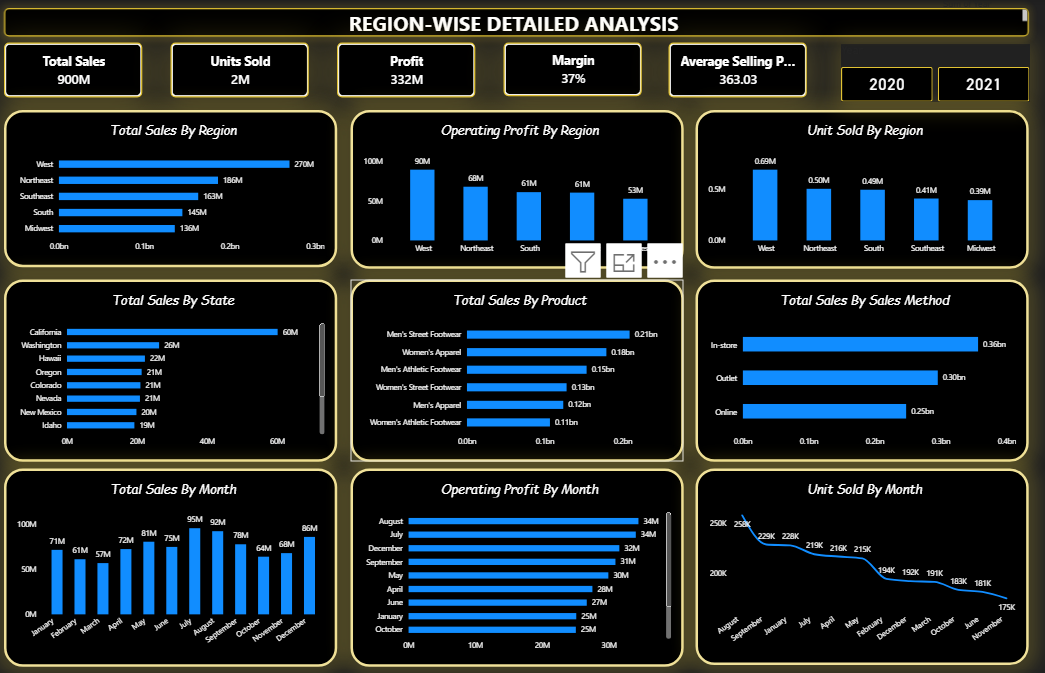

Layout of this report page (visuals, bound fields, positions):
{"tool":"powerbi","page":{"name":"region_wise_detail_analysis","canvas":[1920,1080],"ordinal":3},"visuals":[{"type":"textbox","box":[10,15,1630,45],"z":0},{"type":"cardVisual","fields":{"Data":["Sum(Adidas Sales.Total Sales)"]},"box":[10,70,220,87.5],"z":1000},{"type":"cardVisual","fields":{"Data":["Sum(Adidas Sales.Units Sold)"]},"box":[274.4,70,220,87.5],"z":2000},{"type":"cardVisual","fields":{"Data":["Sum(Adidas Sales.Operating Profit)"]},"box":[538.8,70,220,87.5],"z":3000},{"type":"cardVisual","fields":{"Data":["Adidas Sales.Margin"]},"box":[803.1,70,220,85],"z":4000},{"type":"cardVisual","fields":{"Data":["Adidas Sales.Average Selling Price"]},"box":[1067.5,70,220,87.5],"z":5000},{"type":"clusteredBarChart","title":"Total Sales By Region","fields":{"Category":["Adidas Sales.Region"],"Y":["Sum(Adidas Sales.Total Sales)"]},"box":[10,177.5,530,250],"z":6000},{"type":"clusteredColumnChart","title":"Operating Profit By Region","fields":{"Y":["Sum(Adidas Sales.Operating Profit)"],"Category":["Adidas Sales.Region"]},"box":[560,177.5,530,252.5],"z":7000},{"type":"clusteredColumnChart","title":"Unit Sold By Region","fields":{"Category":["Adidas Sales.Region"],"Y":["Sum(Adidas Sales.Units Sold)"]},"box":[1110,177.5,530,252.5],"z":8000},{"type":"clusteredBarChart","title":"Total Sales By State","fields":{"Category":["Adidas Sales.State"],"Y":["Sum(Adidas Sales.Total Sales)"]},"box":[10,445,530,290],"z":9000},{"type":"clusteredBarChart","title":"Total Sales By Product","fields":{"Category":["Adidas Sales.Product"],"Y":["Sum(Adidas Sales.Total Sales)"]},"box":[560,445,530,290],"z":10000},{"type":"clusteredBarChart","title":"Total Sales By Sales Method","fields":{"Category":["Adidas Sales.Sales Method"],"Y":["Sum(Adidas Sales.Total Sales)"]},"box":[1110,445,530,290],"z":11000},{"type":"clusteredColumnChart","title":"Total Sales By Month","fields":{"Category":["Date_matster_table.month_name"],"Y":["Sum(Adidas Sales.Total Sales)"]},"box":[10,747.5,530,315],"z":12000},{"type":"clusteredBarChart","title":"Operating Profit By Month ","fields":{"Category":["Date_matster_table.month_name"],"Y":["Sum(Adidas Sales.Operating Profit)"]},"box":[560,747.5,530,315],"z":13000},{"type":"lineChart","title":"Unit Sold By Month","fields":{"Category":["Date_matster_table.month_name"],"Y":["Sum(Adidas Sales.Units Sold)"]},"box":[1110,747.5,530,312.5],"z":14000},{"type":"advancedSlicerVisual","fields":{"Label":["Sum(Date_matster_table.Year)"]},"box":[1502.5,0,377,357.9],"z":16000},{"type":"advancedSlicerVisual","fields":{"Values":["Date_matster_table.Year"]},"box":[1340,72.5,300,92.5],"z":17000}]}

Visuals, with their boxes on the page's 1920x1080 design canvas (x1, y1, x2, y2). These are canvas units, not pixel positions in the 1045x673 screenshot, which may show the page scaled, cropped or inside an application window:
textbox: 10:15:1640:60
cardVisual - Sum(Adidas Sales.Total Sales): 10:70:230:158
cardVisual - Sum(Adidas Sales.Units Sold): 274:70:494:158
cardVisual - Sum(Adidas Sales.Operating Profit): 539:70:759:158
cardVisual - Adidas Sales.Margin: 803:70:1023:155
cardVisual - Adidas Sales.Average Selling Price: 1068:70:1288:158
"Total Sales By Region" clusteredBarChart: 10:178:540:428
"Operating Profit By Region" clusteredColumnChart: 560:178:1090:430
"Unit Sold By Region" clusteredColumnChart: 1110:178:1640:430
"Total Sales By State" clusteredBarChart: 10:445:540:735
"Total Sales By Product" clusteredBarChart: 560:445:1090:735
"Total Sales By Sales Method" clusteredBarChart: 1110:445:1640:735
"Total Sales By Month" clusteredColumnChart: 10:748:540:1062
"Operating Profit By Month " clusteredBarChart: 560:748:1090:1062
"Unit Sold By Month" lineChart: 1110:748:1640:1060
advancedSlicerVisual - Sum(Date_matster_table.Year): 1502:0:1880:358
advancedSlicerVisual - Date_matster_table.Year: 1340:72:1640:165
